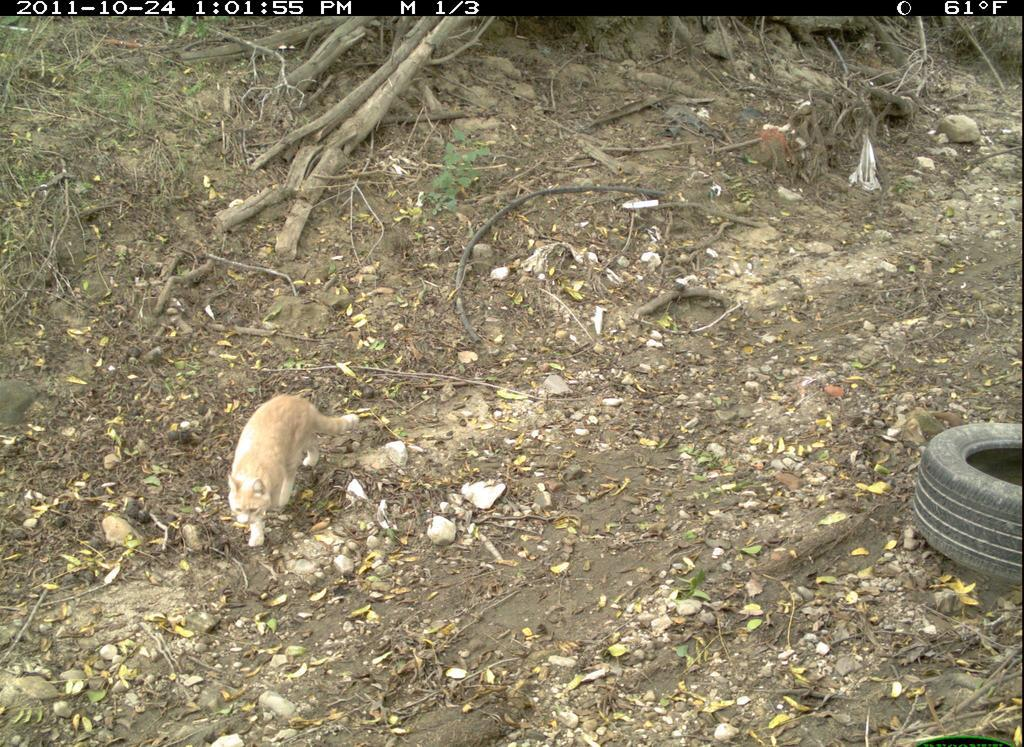cat: (219, 386, 369, 555)
